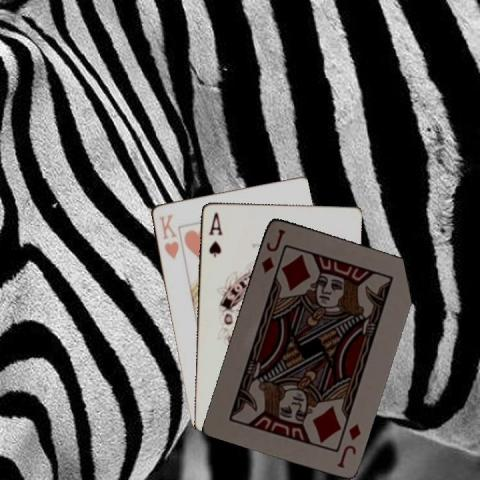As: (206, 208, 224, 258)
Jd: (258, 225, 287, 274), (334, 420, 363, 469)
Kh: (155, 211, 180, 261)
